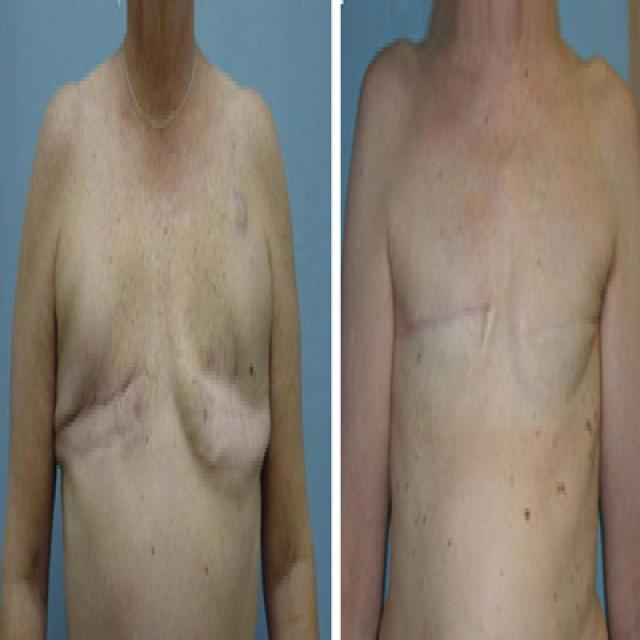Seno herido: (49, 243, 160, 493), (167, 244, 277, 495), (388, 194, 504, 419), (514, 190, 608, 416)
